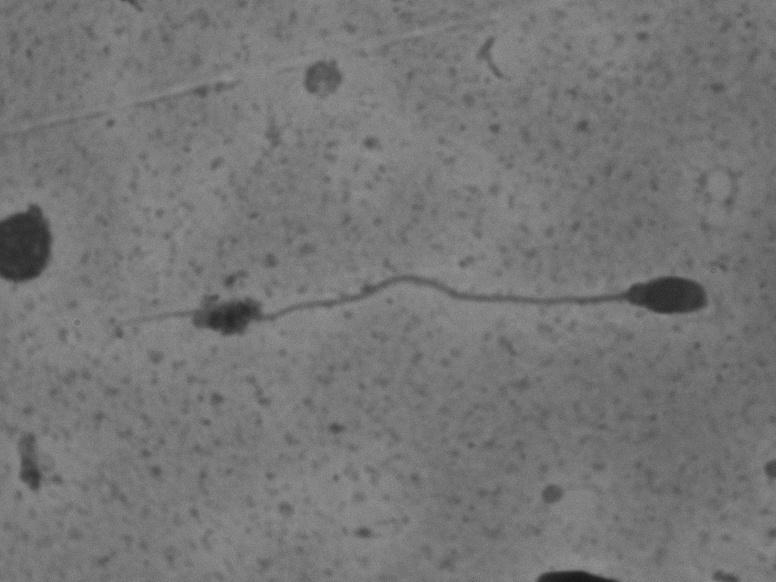Abnormal: (72, 233, 732, 407)
